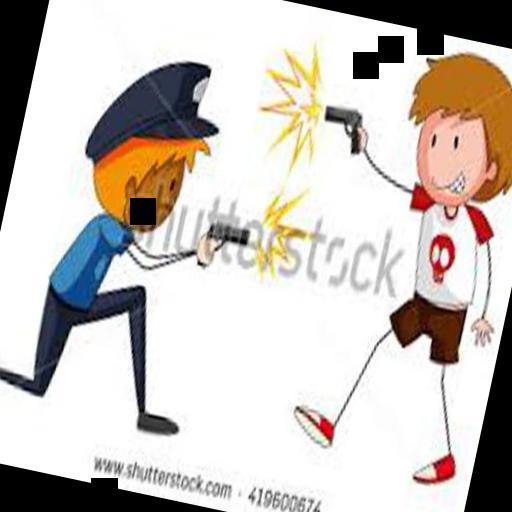Handgun: (194, 214, 252, 272), (316, 98, 368, 153)
